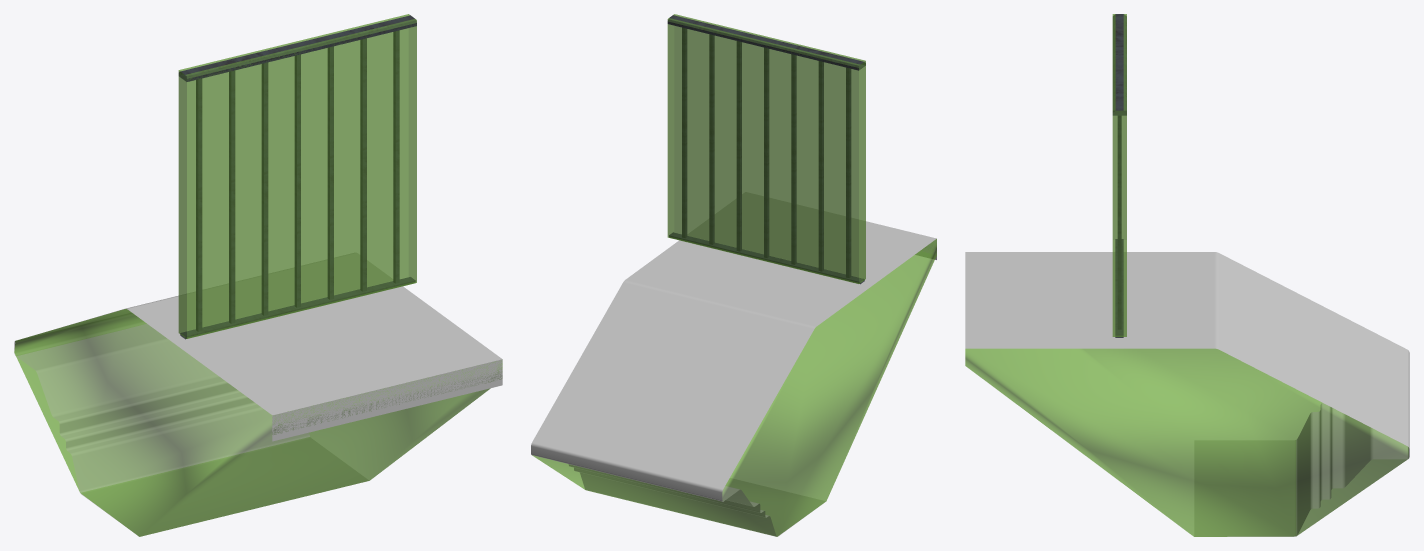
File: F7_md_Roof_1m_01.fbx
3 views of the same model, side by side, from view 1: azimuth 30°, elevation 25°; view 2: azimuth 150°, elevation 25°; view 3: azimuth 270°, elevation 25° (orthographic). The views are drawn at different scales.
Parts seen in each view (by area): view 1: F7_md_Roof_1m_01_LOD0, F7_md_Roof_1m_01_col_01, F7_md_Roof_1m_01_col_02; view 2: F7_md_Roof_1m_01_LOD0, F7_md_Roof_1m_01_col_01, F7_md_Roof_1m_01_col_02; view 3: F7_md_Roof_1m_01_LOD0, F7_md_Roof_1m_01_col_02, F7_md_Roof_1m_01_col_01.
Boxes of the visible parts, bbox=[...] form: F7_md_Roof_1m_01_LOD0: bbox=[14, 15, 502, 536]; F7_md_Roof_1m_01_col_01: bbox=[178, 14, 416, 338]; F7_md_Roof_1m_01_col_02: bbox=[14, 309, 502, 536]; F7_md_Roof_1m_01_LOD0: bbox=[531, 15, 936, 536]; F7_md_Roof_1m_01_col_01: bbox=[667, 14, 865, 283]; F7_md_Roof_1m_01_col_02: bbox=[532, 239, 936, 536]; F7_md_Roof_1m_01_LOD0: bbox=[965, 14, 1409, 536]; F7_md_Roof_1m_01_col_02: bbox=[965, 348, 1408, 536]; F7_md_Roof_1m_01_col_01: bbox=[1112, 14, 1126, 336].
Size of what is drawn, in the model's own units: 100 by 206 by 194.
